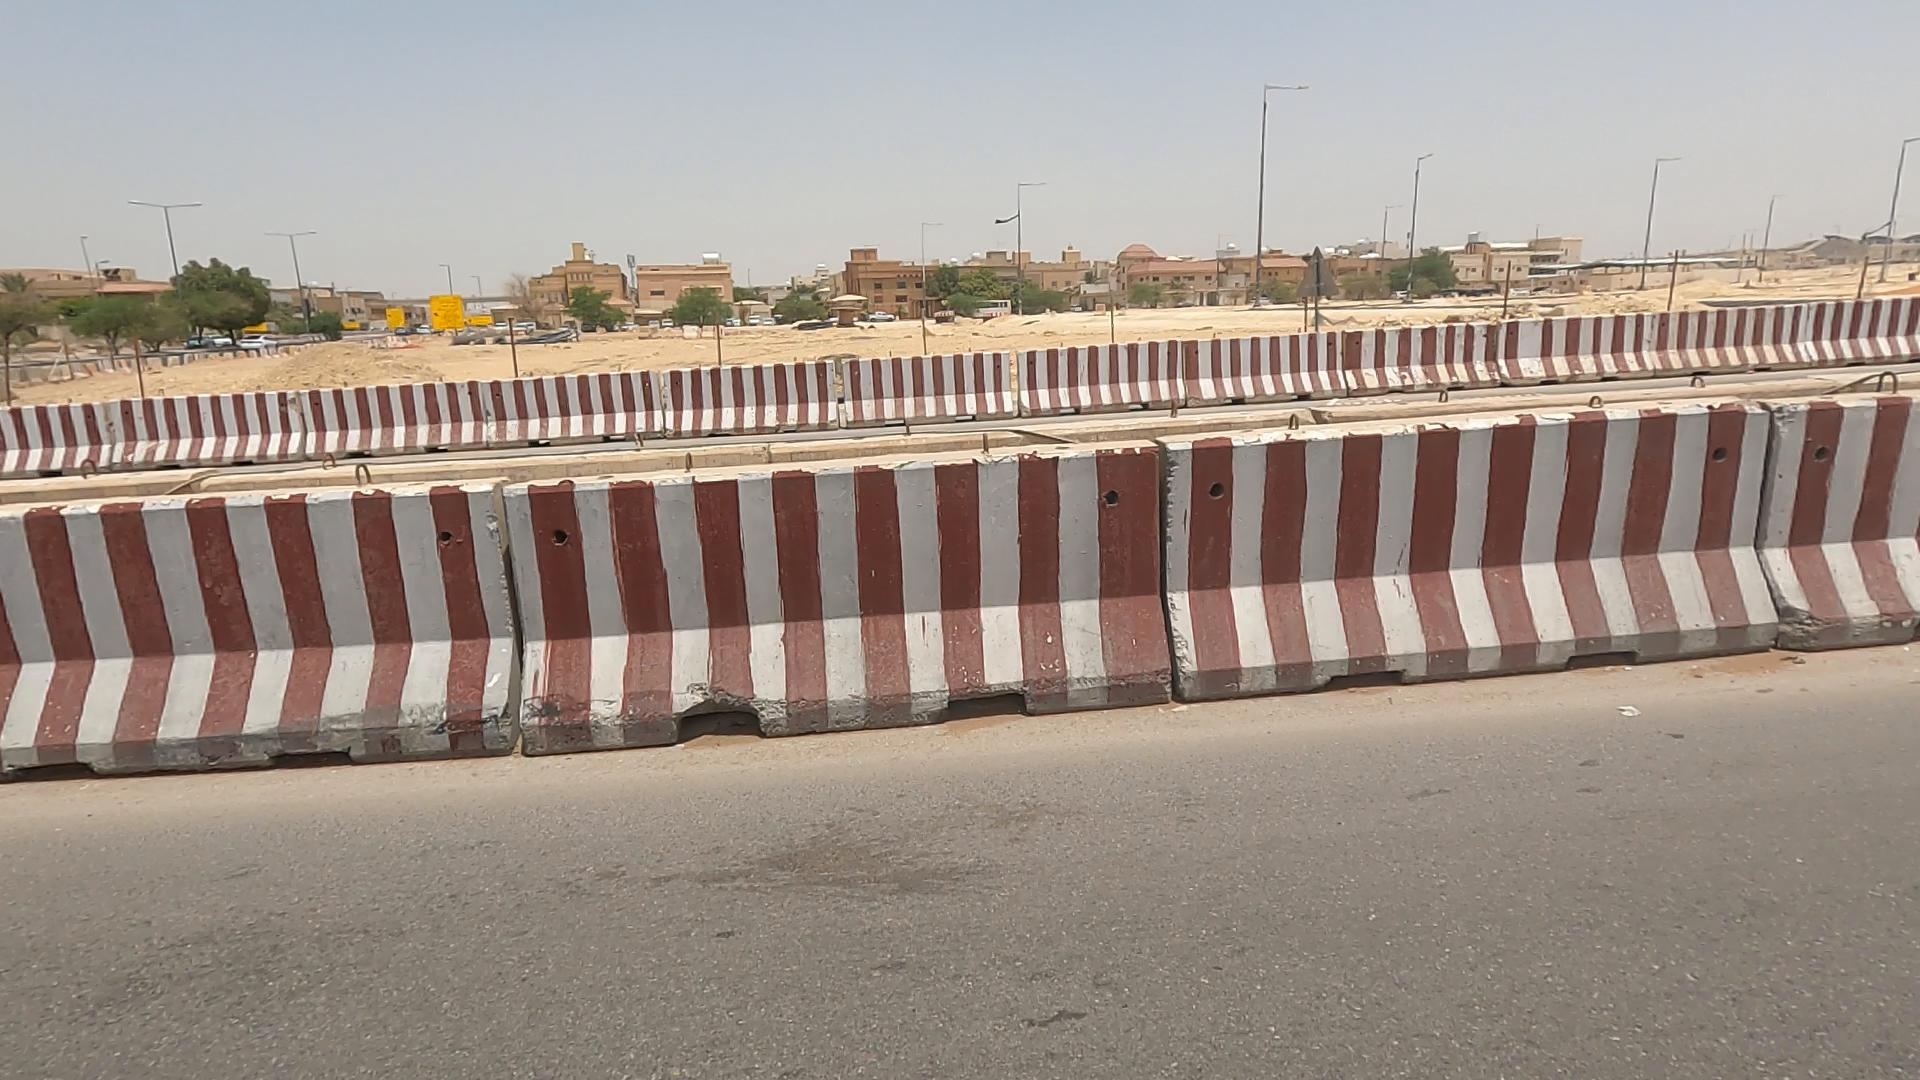CONSTRUCTION_ROAD: (589, 220, 1907, 827)
